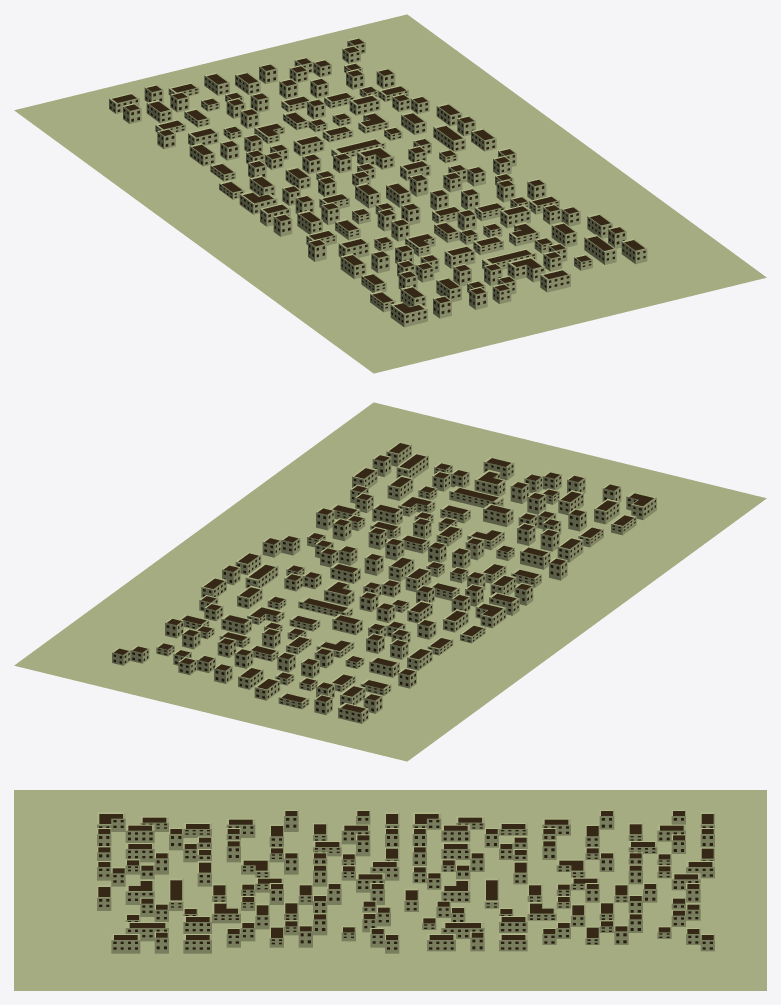
The model's file is Desert_City.fbx.
3 renders of one model, top to bottom at view 1: azimuth 30°, elevation 25°; view 2: azimuth 150°, elevation 25°; view 3: azimuth 270°, elevation 25°, orthographic. The views are drawn at different scales.
Parts seen in each view (by area): view 1: Plane; view 2: Plane; view 3: Plane.
Part boxes in pixels (x1=…): Plane: x1=14, y1=14, x2=766, y2=373; Plane: x1=14, y1=402, x2=766, y2=761; Plane: x1=14, y1=790, x2=766, y2=990.
Size of the model in its own units: 2713 by 104 by 4298.
